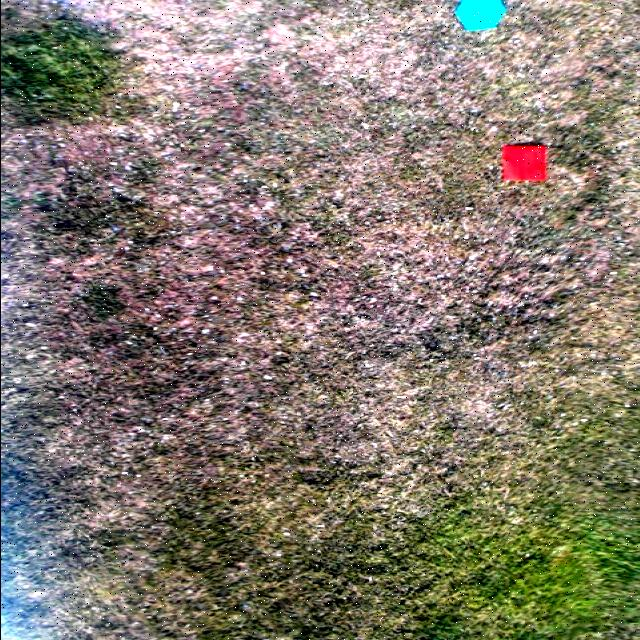blue_hexagon: (452, 0, 504, 30)
red_square: (502, 146, 546, 182)
